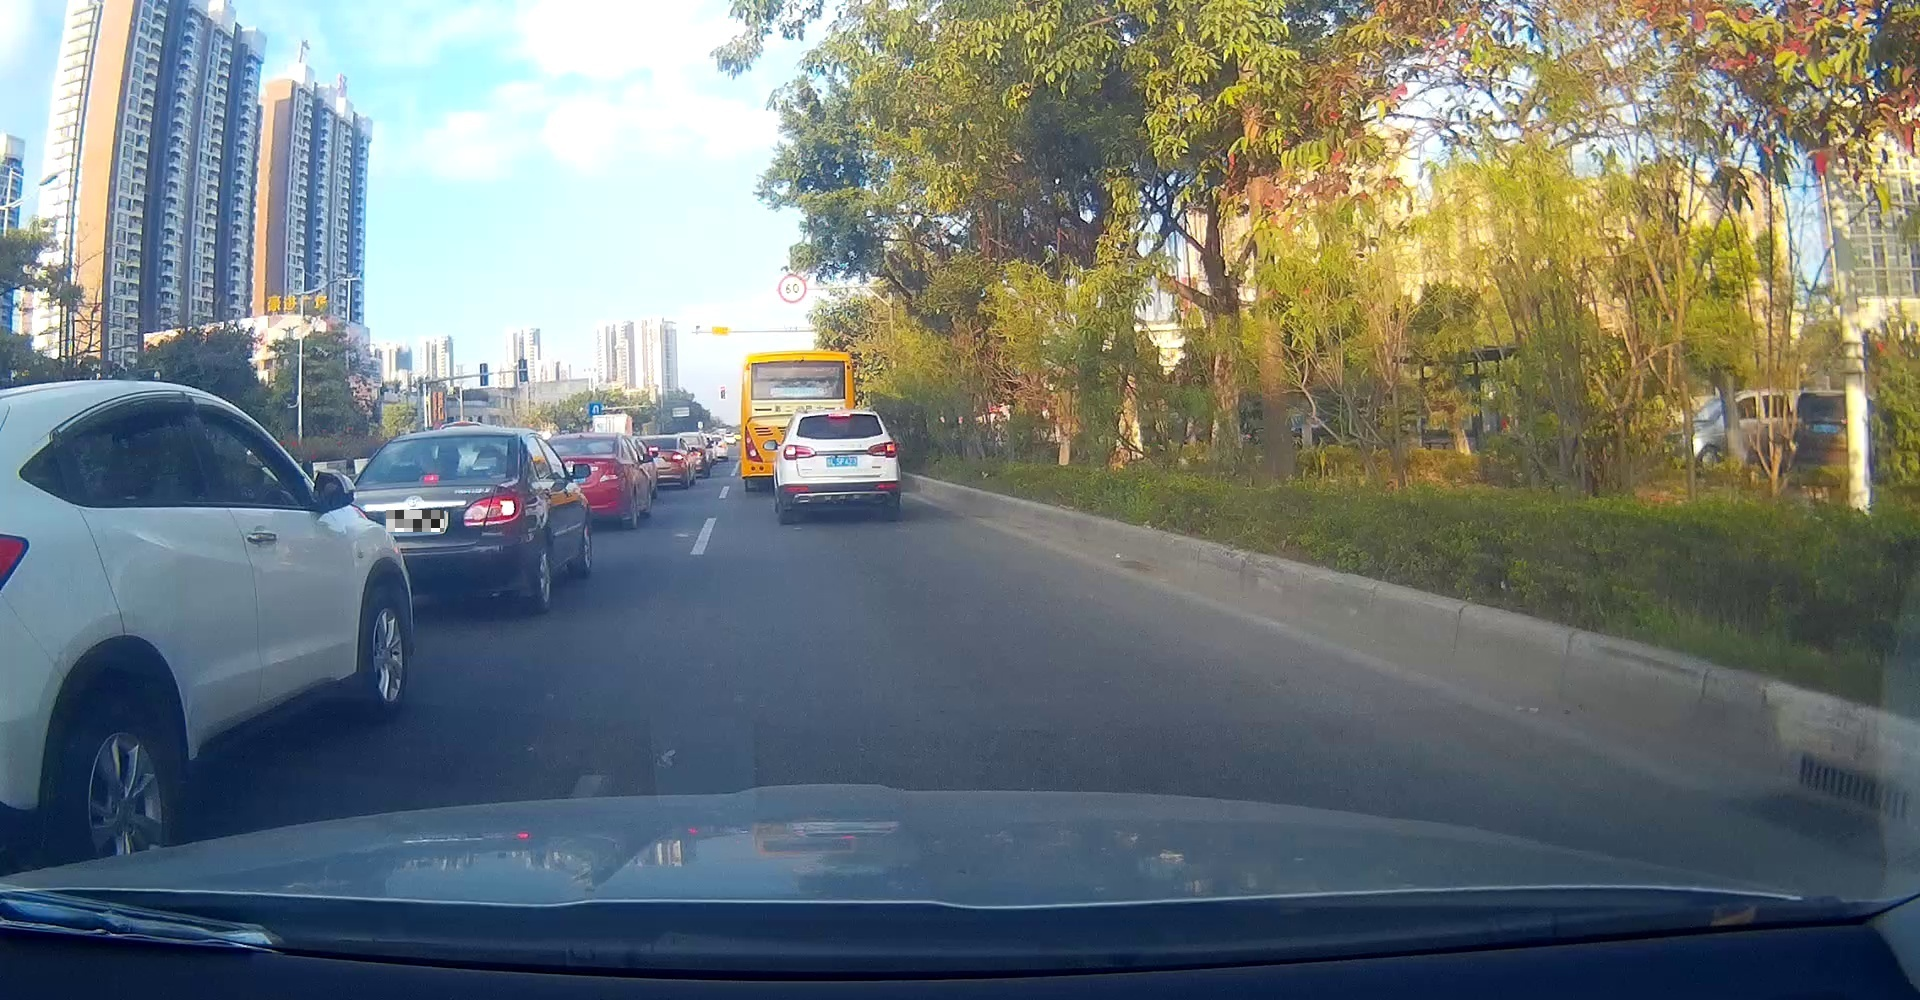L_light: (783, 445, 817, 459)
R_light: (866, 442, 897, 458)
T_light: (829, 412, 850, 418)
day-brake: (782, 410, 898, 524)
plate_1: (386, 510, 444, 532)
